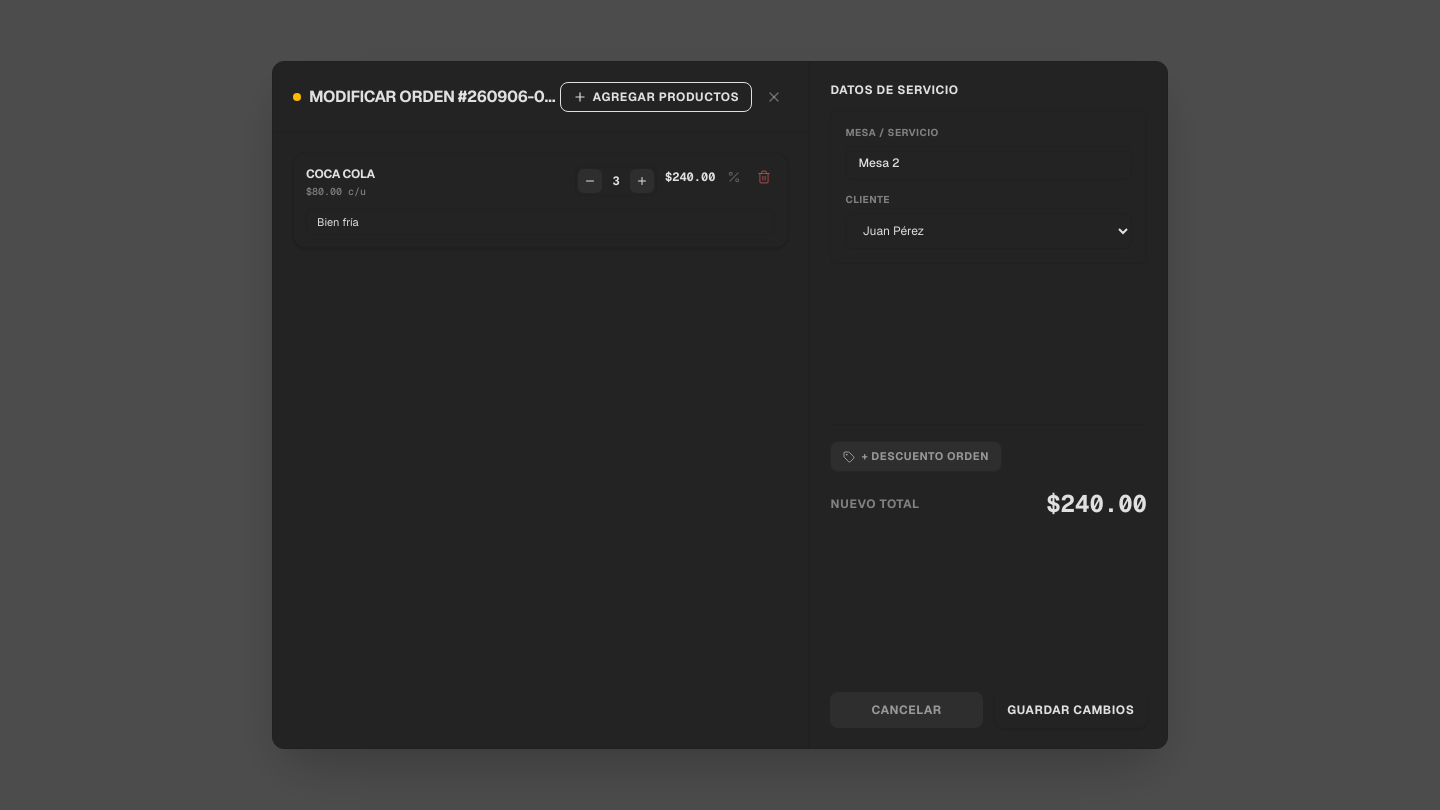
POSModifyOrderModal Component › dismisses add items confirmation dialog when pressing Escape key
The image size is (1440, 810).
// Open add items confirmation
Click the button "Agregar Productos" at (656,97), box x1=560 y1=82 x2=752 y2=112
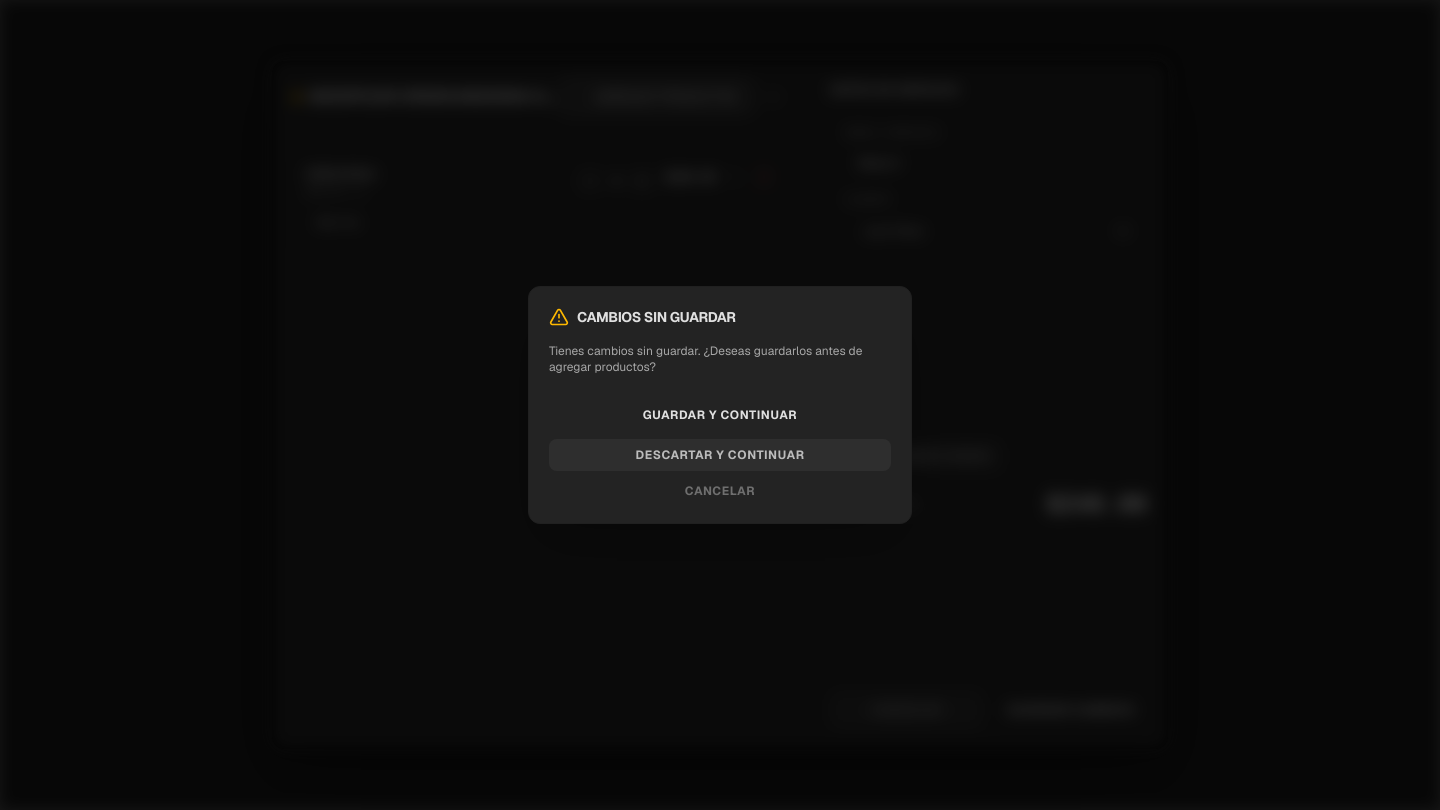
Expected: the heading "Cambios sin guardar" is shown, x1=577 y1=307 x2=736 y2=327
Press Escape
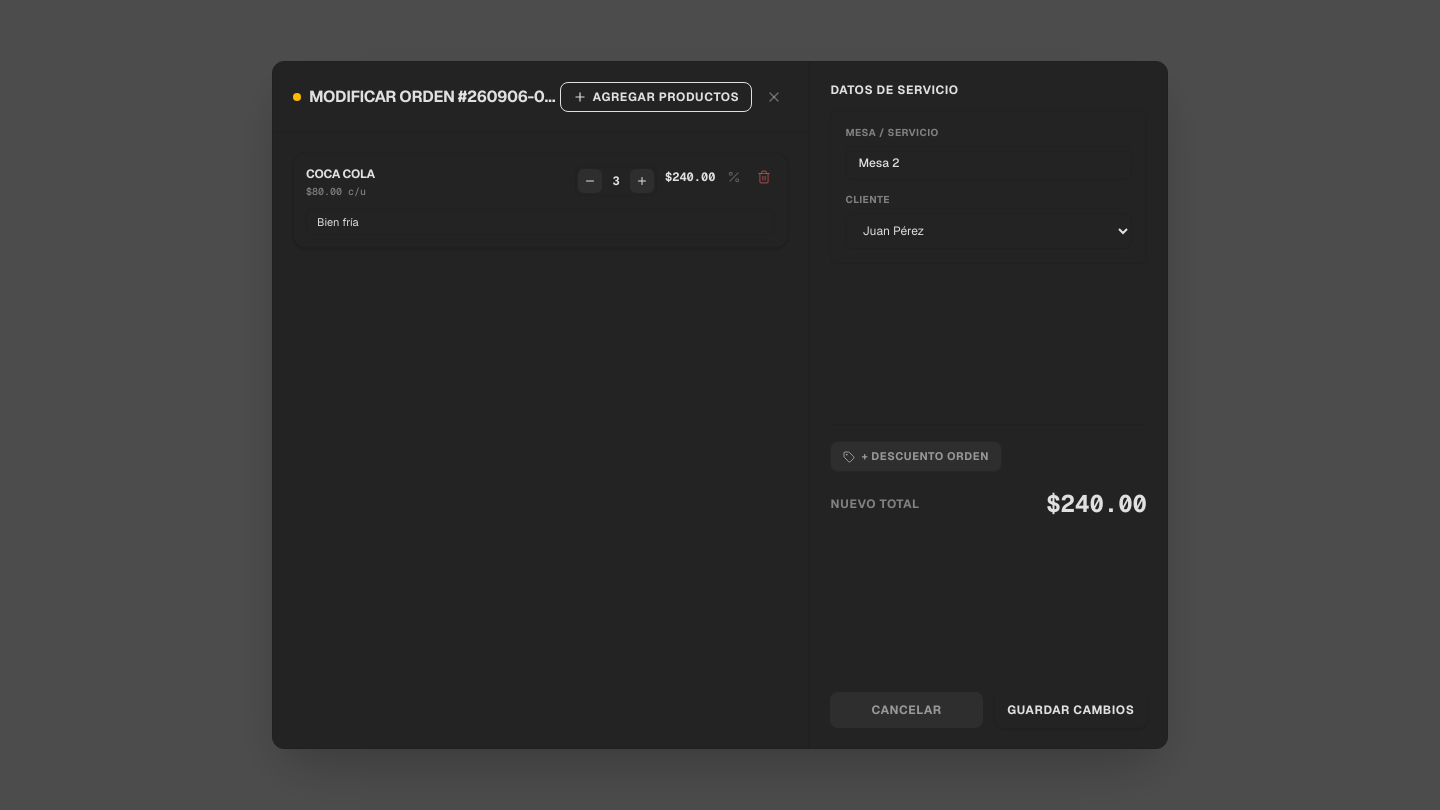
Expected: the heading "Cambios sin guardar" is gone
